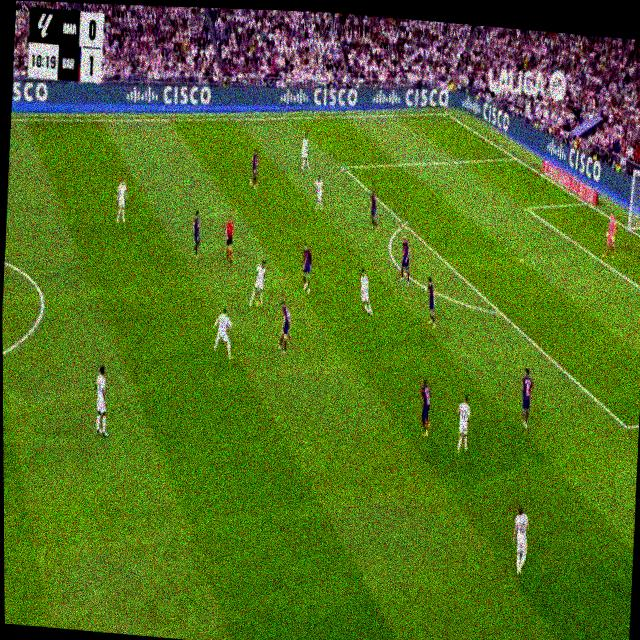bigarea_bottom_inner: (620, 412, 633, 440)
bigarea_top_inner: (340, 160, 347, 174)
bottom_arc_area_intersection: (495, 303, 506, 323)
corner: (442, 107, 451, 119)
smallarea_top_inner: (524, 202, 529, 213)
top_arc_area_intersection: (401, 217, 409, 230)
